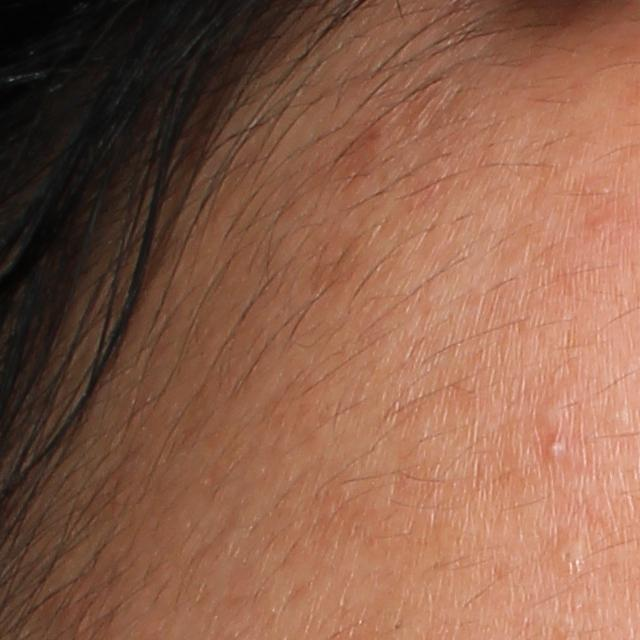comedo: (540, 397, 573, 430), (552, 541, 586, 571)
